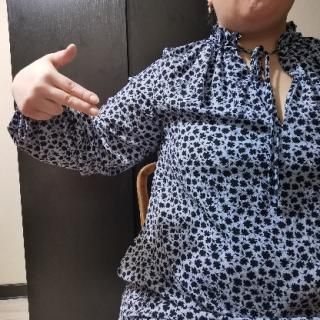GHAYN: (12, 41, 110, 123)
